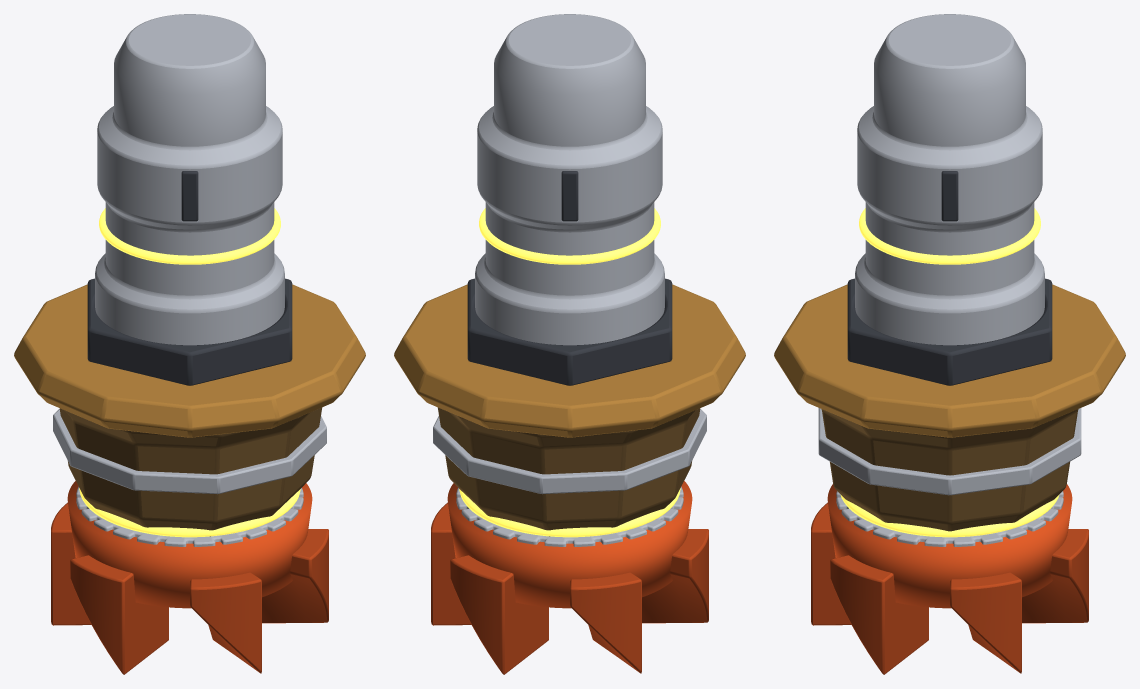
Rendered from kralle.glb.
3 renders of one model, left to right at view 1: azimuth 30°, elevation 25°; view 2: azimuth 150°, elevation 25°; view 3: azimuth 270°, elevation 25°, orthographic.
Parts seen in each view (by area): view 1: Schaft.002, Flansch.002, Gehaeuse.002, Kontaktbasis, Kragen.002, Kralle.003, Metallband.002, Kralle.004, Kralle.005, Kralle.002, Fussring.002, Schaftleuchte.002 (+2 smaller); view 2: Schaft.002, Flansch.002, Gehaeuse.002, Kontaktbasis, Kragen.002, Kralle.001, Metallband.002, Kralle.002, Kralle.003, Kralle, Fussring.002, Schaftleuchte.002 (+2 smaller); view 3: Schaft.002, Flansch.002, Gehaeuse.002, Kontaktbasis, Kragen.002, Kralle.005, Metallband.002, Kralle, Kralle.001, Kralle.004, Fussring.002, Schaftleuchte.002 (+2 smaller).
Boxes of the visible parts, <box> form: Schaft.002: <box>95,14,284,345</box>; Flansch.002: <box>14,284,365,437</box>; Gehaeuse.002: <box>59,407,322,536</box>; Kontaktbasis: <box>67,480,312,608</box>; Kragen.002: <box>87,278,292,385</box>; Kralle.003: <box>70,555,168,674</box>; Metallband.002: <box>53,409,326,494</box>; Kralle.004: <box>190,572,261,673</box>; Kralle.005: <box>262,529,328,623</box>; Kralle.002: <box>51,502,91,625</box>; Fussring.002: <box>76,486,303,546</box>; Schaftleuchte.002: <box>99,208,280,264</box>; Schaft.002: <box>475,14,664,345</box>; Flansch.002: <box>394,284,745,437</box>; Gehaeuse.002: <box>437,407,700,536</box>; Kontaktbasis: <box>447,480,692,608</box>; Kragen.002: <box>467,278,672,385</box>; Kralle.001: <box>450,555,548,674</box>; Metallband.002: <box>433,409,706,494</box>; Kralle.002: <box>570,572,641,673</box>; Kralle.003: <box>642,529,708,623</box>; Kralle: <box>431,502,471,625</box>; Fussring.002: <box>456,486,683,546</box>; Schaftleuchte.002: <box>479,208,660,264</box>; Schaft.002: <box>855,14,1044,345</box>; Flansch.002: <box>774,284,1125,437</box>; Gehaeuse.002: <box>821,409,1078,531</box>; Kontaktbasis: <box>827,484,1072,608</box>; Kragen.002: <box>847,278,1052,385</box>; Kralle.005: <box>830,555,928,674</box>; Metallband.002: <box>818,408,1081,495</box>; Kralle: <box>950,572,1021,673</box>; Kralle.001: <box>1022,529,1088,623</box>; Kralle.004: <box>811,502,851,625</box>; Fussring.002: <box>836,491,1063,546</box>; Schaftleuchte.002: <box>859,208,1040,264</box>.
Bounding box in the file's own units: 0.1668 × 0.3055 × 0.1668.
